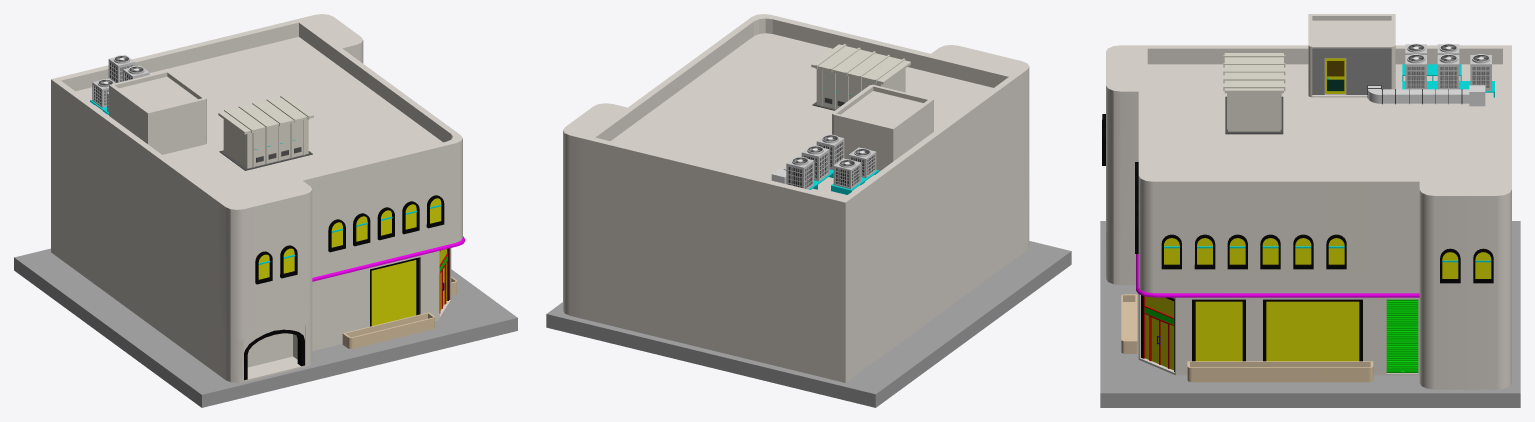
File: building11_2.fbx
The picture shows the model from 3 angles, left to right: view 1: azimuth 30°, elevation 25°; view 2: azimuth 150°, elevation 25°; view 3: azimuth 270°, elevation 25°; orthographic projection. The views are drawn at different scales.
Visible parts, largest first — view 1: pCube170; view 2: pCube170; view 3: pCube170.
Part boxes in pixels (bbox=[...]): pCube170: bbox=[14, 14, 517, 407]; pCube170: bbox=[546, 14, 1071, 407]; pCube170: bbox=[1100, 14, 1520, 407].
Size of the model in its own units: 25.26 by 16.58 by 26.
